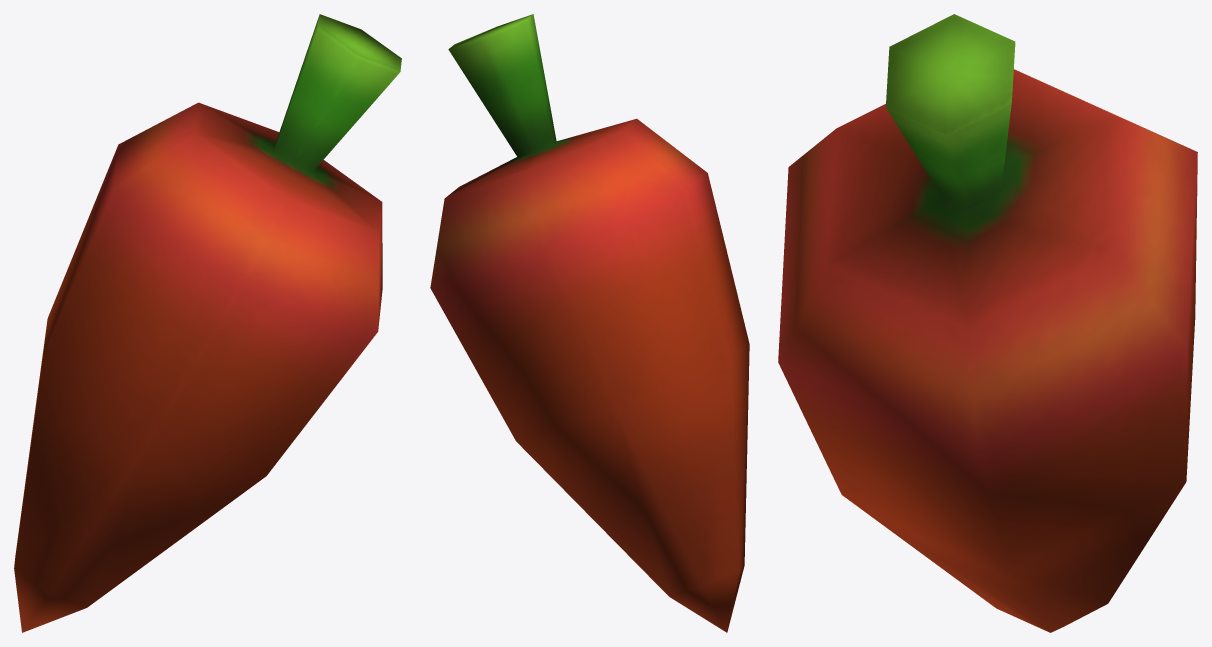
Rendered from Carrot.FBX.
3 views of the same model, side by side, from view 1: azimuth 30°, elevation 25°; view 2: azimuth 150°, elevation 25°; view 3: azimuth 270°, elevation 25° (orthographic). The views are drawn at different scales.
Parts seen in each view (by area): view 1: Carrot; view 2: Carrot; view 3: Carrot.
Boxes of the visible parts, box(x1,y1,x2,y2) form: Carrot: box(14, 14, 401, 632); Carrot: box(430, 14, 749, 632); Carrot: box(778, 14, 1197, 632).
Size of the model in its own units: 0.3582 by 0.5632 by 0.2731.
